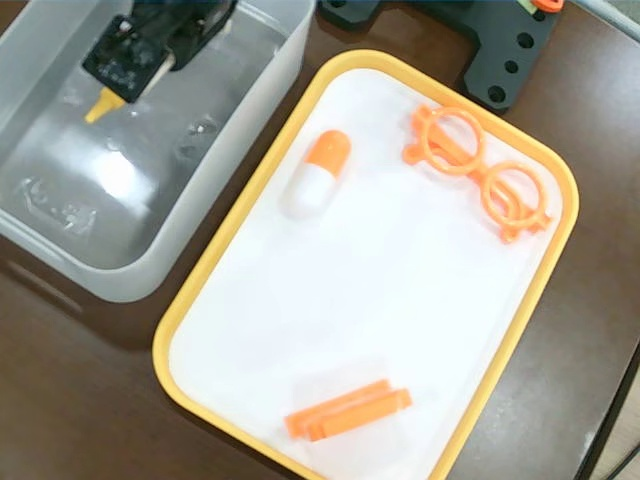pill: (287, 130, 353, 223)
